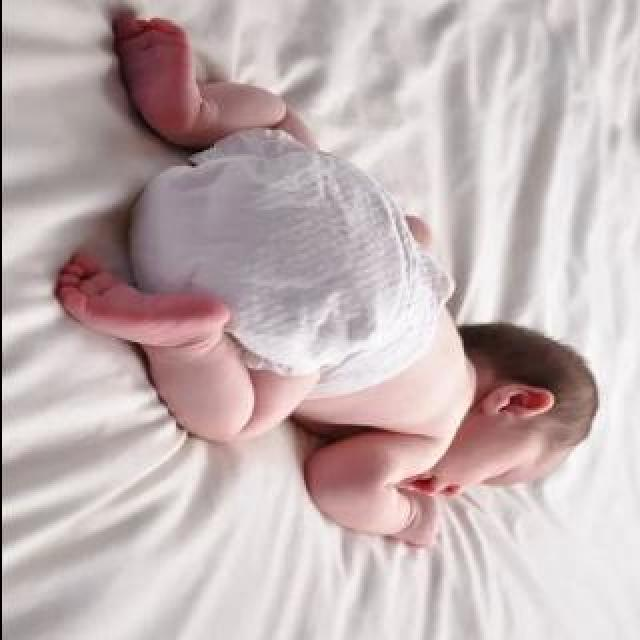baby: (61, 16, 597, 550)
